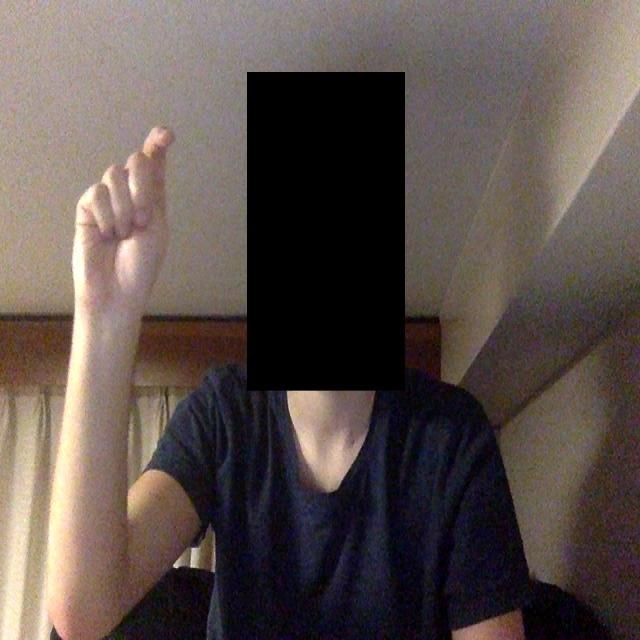X: (54, 106, 202, 350)
